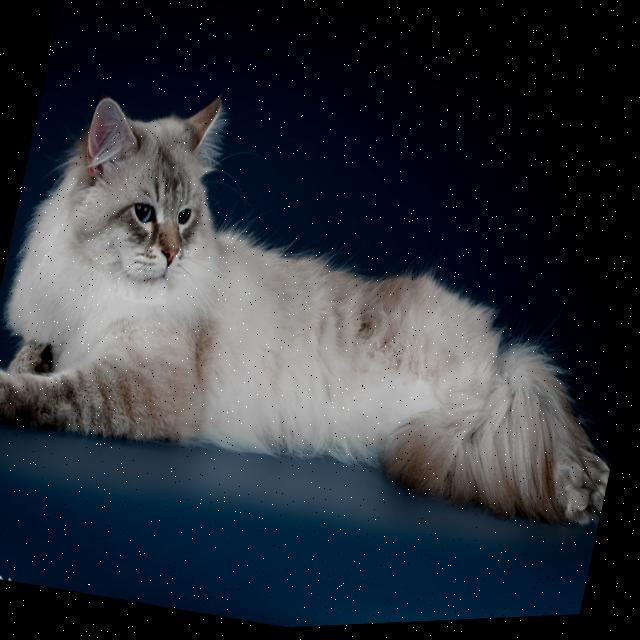Neva Masquerade: (0, 37, 640, 560)
